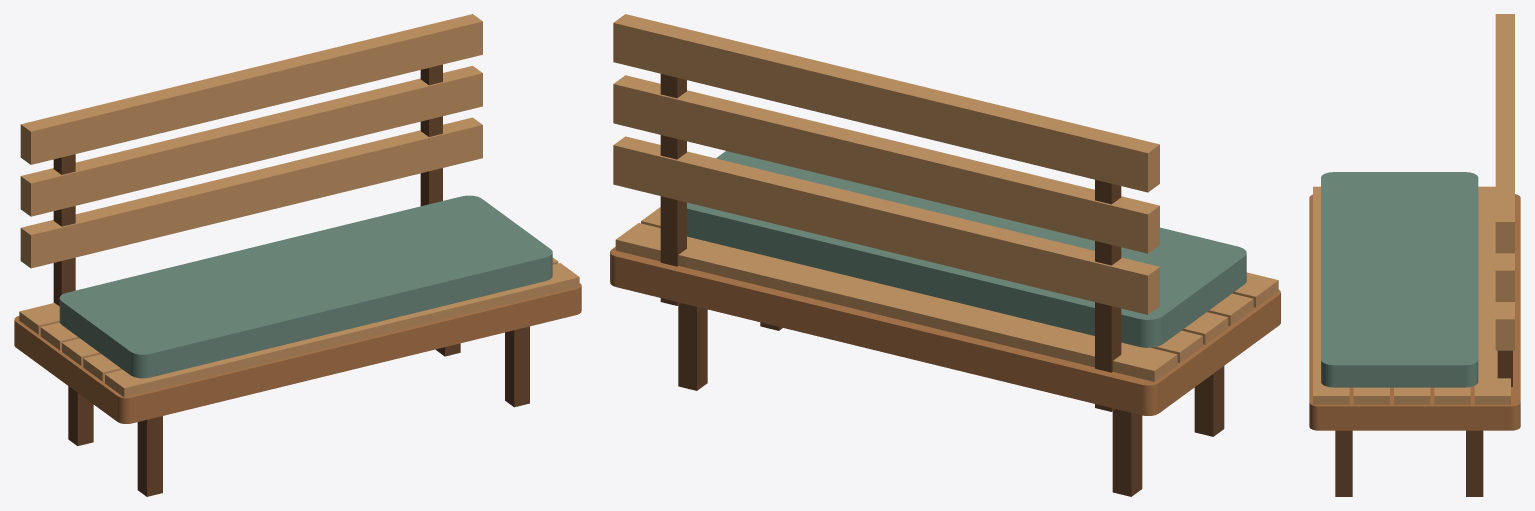
Rendered from terrace-bench.gltf.
3 views of the same model, side by side, from view 1: azimuth 30°, elevation 25°; view 2: azimuth 150°, elevation 25°; view 3: azimuth 270°, elevation 25° (orthographic). The views are drawn at different scales.
Visible parts, largest first — view 1: Terrace bench back slat (×3), Terrace weatherproof seat cushion, Terrace timber bench seat, Terrace bench seat board (×3), Terrace bench leg (×3), Terrace bench back upright (×2); view 2: Terrace bench back slat (×3), Terrace weatherproof seat cushion, Terrace timber bench seat, Terrace bench seat board (×5), Terrace bench leg (×3), Terrace bench back upright (×2); view 3: Terrace weatherproof seat cushion, Terrace bench seat board (×5), Terrace timber bench seat, Terrace bench back slat (×3), Terrace bench leg (×2), Terrace bench back upright.
Part boxes in pixels (bbox=[...]): Terrace bench back slat (×3): bbox=[20, 14, 482, 268]; Terrace weatherproof seat cushion: bbox=[59, 195, 552, 378]; Terrace timber bench seat: bbox=[14, 283, 581, 423]; Terrace bench seat board (×3): bbox=[19, 257, 579, 397]; Terrace bench leg (×3): bbox=[68, 326, 529, 496]; Terrace bench back upright (×2): bbox=[53, 64, 442, 306]; Terrace bench back slat (×3): bbox=[613, 14, 1159, 314]; Terrace weatherproof seat cushion: bbox=[687, 151, 1246, 347]; Terrace timber bench seat: bbox=[610, 247, 1280, 415]; Terrace bench seat board (×5): bbox=[615, 207, 1278, 381]; Terrace bench leg (×3): bbox=[678, 303, 1224, 496]; Terrace bench back upright (×2): bbox=[660, 74, 1121, 411]; Terrace weatherproof seat cushion: bbox=[1321, 172, 1478, 387]; Terrace bench seat board (×5): bbox=[1313, 186, 1510, 404]; Terrace timber bench seat: bbox=[1309, 194, 1520, 430]; Terrace bench back slat (×3): bbox=[1495, 14, 1514, 350]; Terrace bench leg (×2): bbox=[1335, 430, 1483, 496]; Terrace bench back upright: bbox=[1497, 350, 1512, 386].
Bounding box in the file's own units: 1.31 × 0.84 × 0.55.
